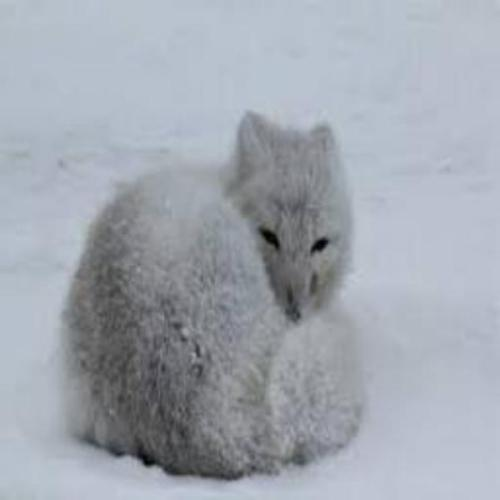arctic_fox-endangered: (61, 109, 374, 480)
